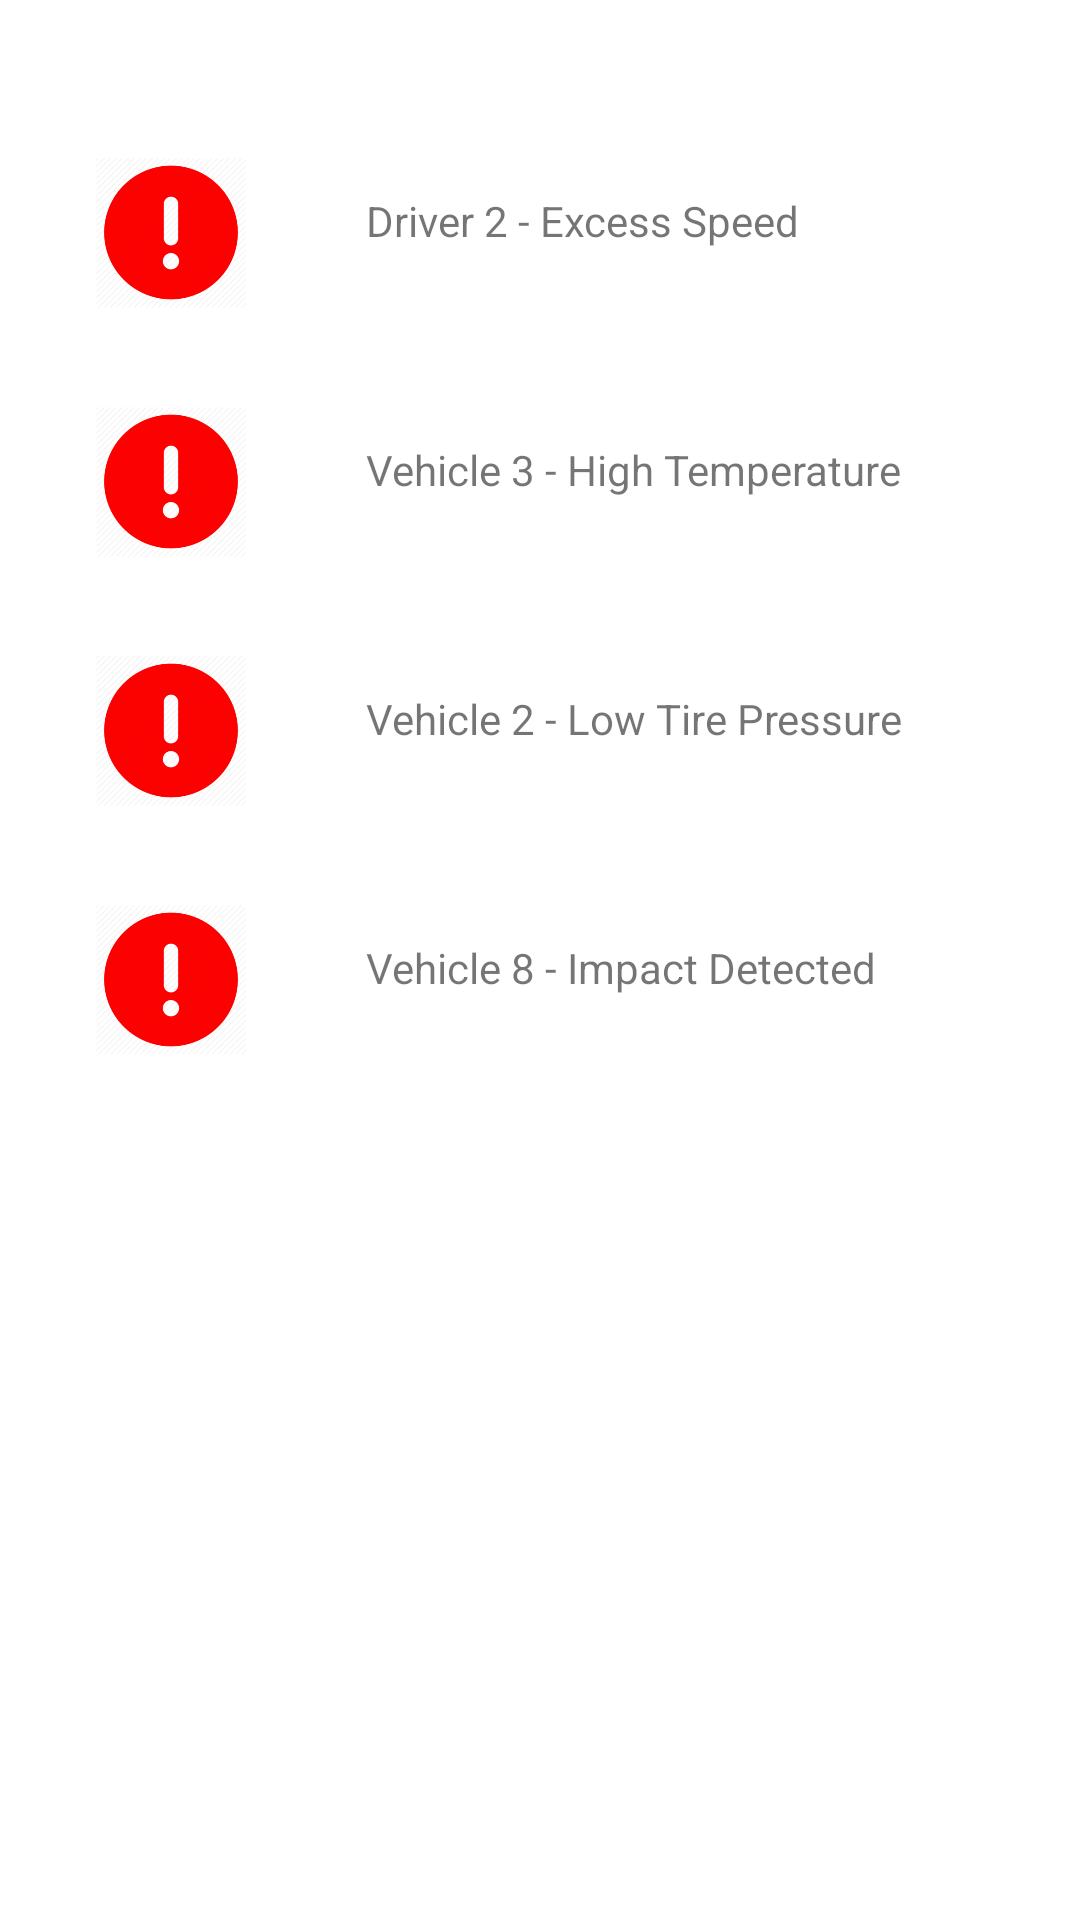

Icon click points for this 1080w x 1920h phone screenshot, format [x,y]:
oops: [171,232], [171,481], [171,730], [171,979]
